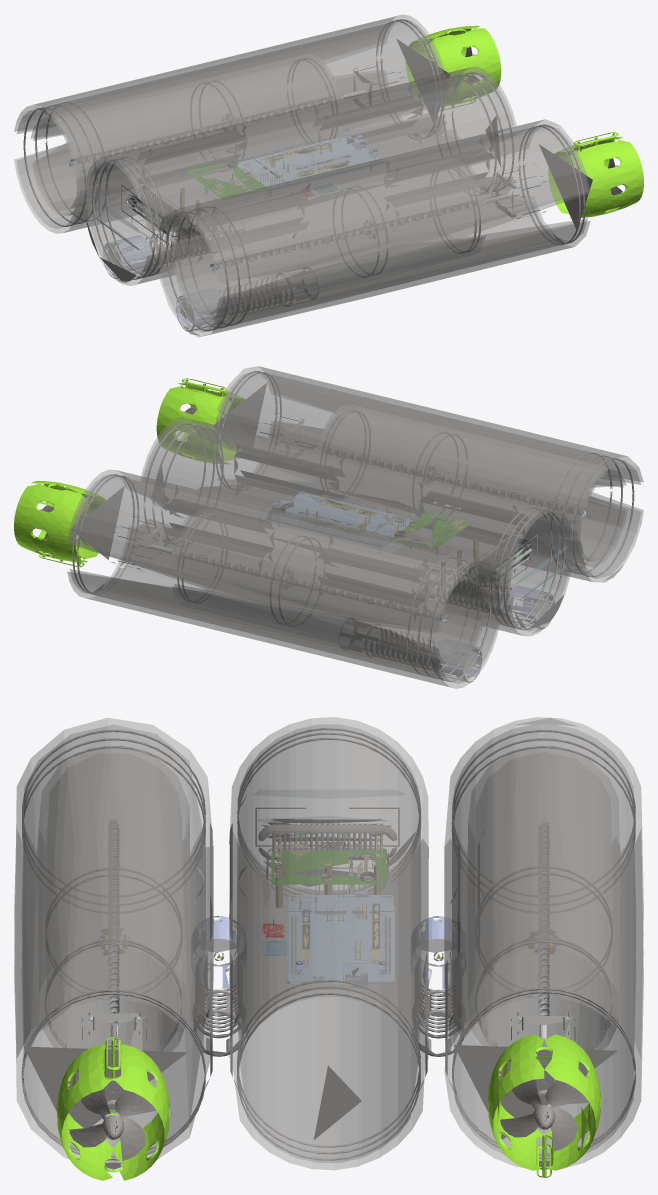
The picture shows the model from 3 angles, top to bottom: view 1: azimuth 30°, elevation 25°; view 2: azimuth 150°, elevation 25°; view 3: azimuth 270°, elevation 25°; orthographic projection. The views are drawn at different scales.
Parts seen in each view (by area): view 1: Acrylic_(Clear), Steel_-_Satin, Opaque(144,255,21), Opaque(215,238,255), Opaque(221,232,255), Opaque(50,140,18), Opaque(247,224,153), Opaque(255,255,255); view 2: Acrylic_(Clear), Steel_-_Satin, Opaque(144,255,21), Opaque(215,238,255), Opaque(221,232,255), Opaque(50,140,18), Opaque(255,255,255); view 3: Acrylic_(Clear), Steel_-_Satin, Opaque(144,255,21), Opaque(215,238,255), Opaque(165,158,150), Opaque(50,140,18), Opaque(176,176,176), Opaque(221,232,255), Opaque(251,250,245), Opaque(255,255,255), Opaque(204,181,144).
Boxes of the visible parts, box(x1,y1,x2,y2) form: Acrylic_(Clear): box(14, 14, 590, 337); Steel_-_Satin: box(23, 19, 592, 331); Opaque(144,255,21): box(406, 25, 643, 218); Opaque(215,238,255): box(237, 136, 380, 186); Opaque(221,232,255): box(103, 235, 218, 330); Opaque(50,140,18): box(187, 162, 265, 197); Opaque(247,224,153): box(238, 138, 370, 184); Opaque(255,255,255): box(107, 158, 312, 320); Acrylic_(Clear): box(67, 366, 643, 688); Steel_-_Satin: box(70, 371, 634, 681); Opaque(144,255,21): box(14, 378, 245, 567); Opaque(215,238,255): box(282, 492, 414, 536); Opaque(221,232,255): box(439, 585, 553, 681); Opaque(50,140,18): box(393, 511, 470, 548); Opaque(255,255,255): box(339, 514, 549, 671); Acrylic_(Clear): box(14, 717, 643, 1169); Steel_-_Satin: box(21, 728, 635, 1169); Opaque(144,255,21): box(56, 1034, 600, 1180); Opaque(215,238,255): box(287, 895, 394, 983); Opaque(165,158,150): box(69, 1079, 588, 1161); Opaque(50,140,18): box(271, 850, 385, 884); Opaque(176,176,176): box(108, 943, 549, 1023); Opaque(221,232,255): box(206, 916, 451, 989); Opaque(251,250,245): box(83, 1012, 572, 1050); Opaque(255,255,255): box(206, 818, 451, 959); Opaque(204,181,144): box(274, 838, 382, 882).
Bounding box in the file's own units: 50.28 × 16.28 × 41.02.
